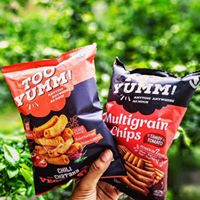plastic: (1, 52, 188, 200)
tooyumm: (17, 63, 73, 111), (112, 77, 186, 98)
wrapper: (32, 48, 126, 177), (114, 57, 168, 200)
